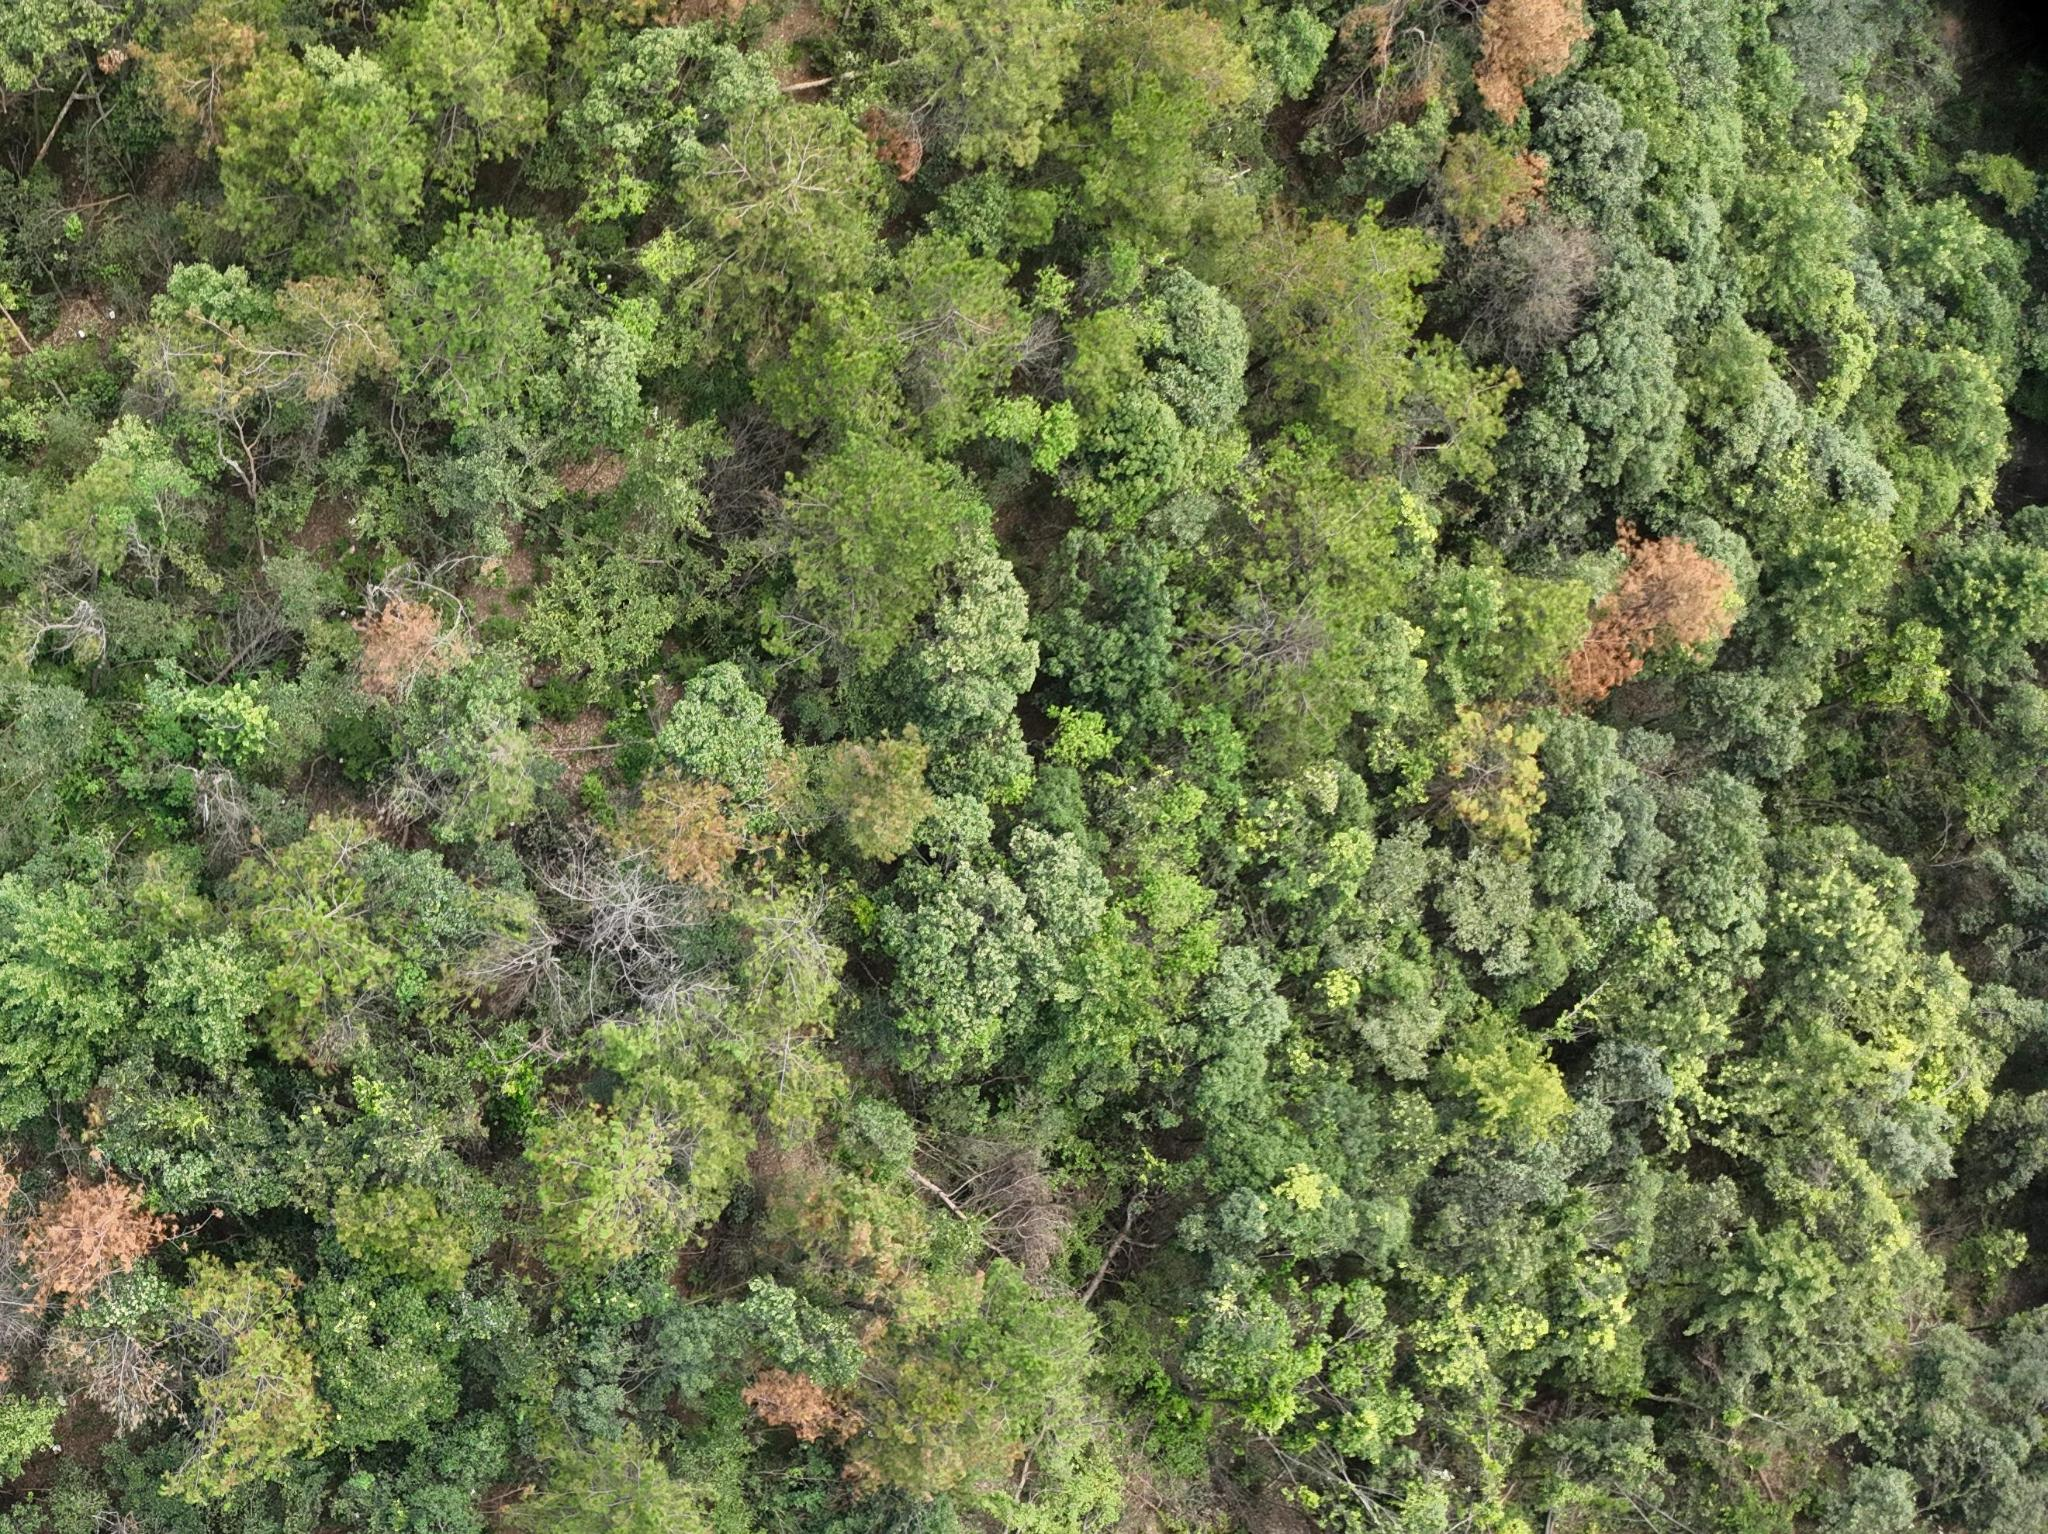dead: (896, 1142, 1068, 1271), (529, 865, 690, 972)
heavy: (1571, 533, 1740, 711), (24, 1176, 158, 1304), (1466, 5, 1587, 118), (351, 611, 469, 706), (648, 785, 751, 886), (749, 1374, 864, 1453)
